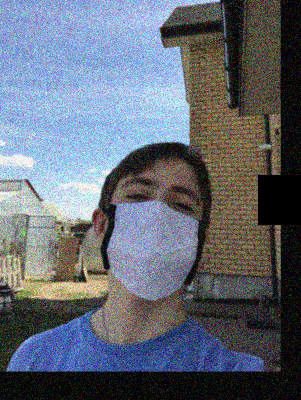with_mask: (99, 174, 204, 301)
